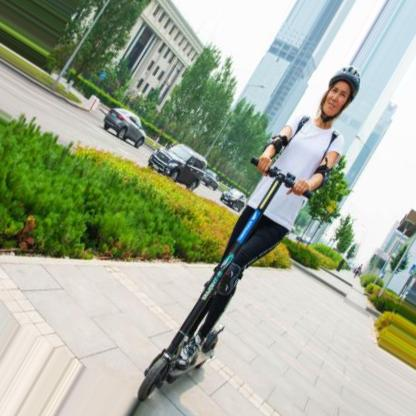scooter: (135, 158, 313, 404)
with helmet: (321, 64, 360, 119)
